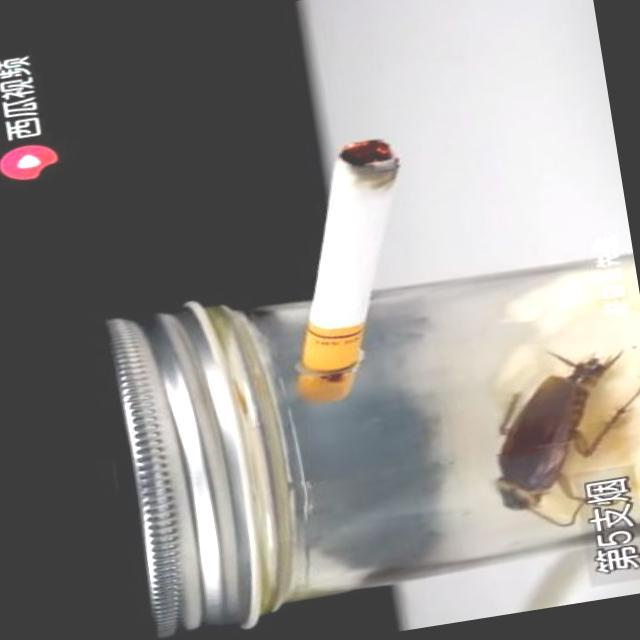cigarette: (254, 127, 446, 381)
